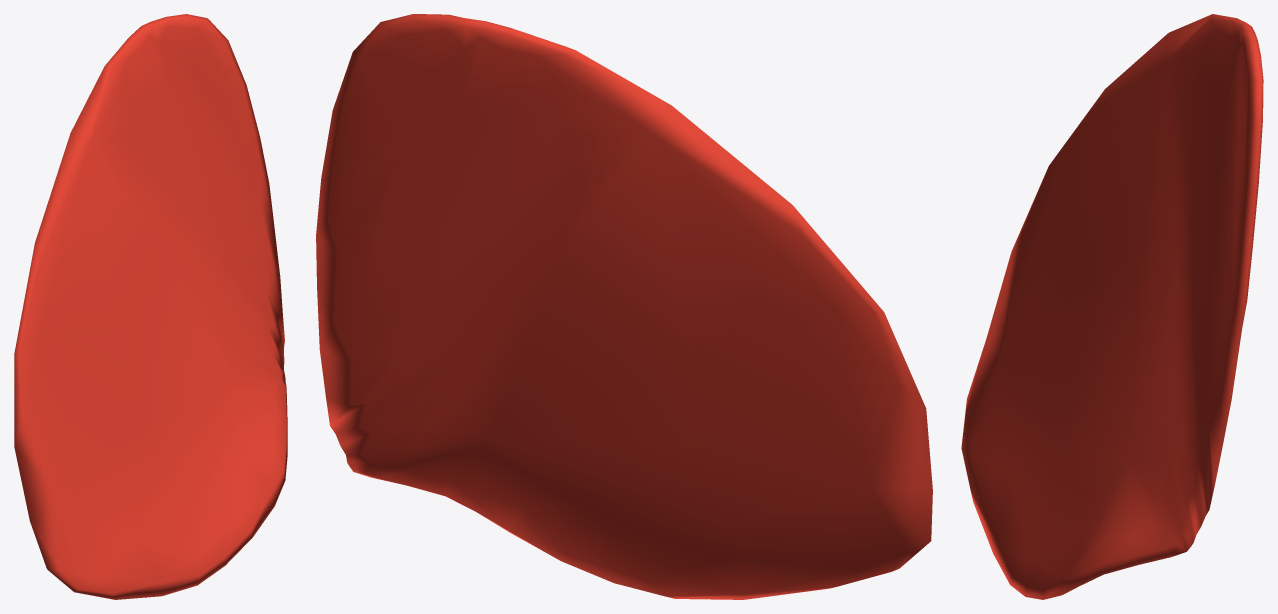
The model's file is Anconeus_humeral_insertion_right.glb.
3 views of the same model, side by side, from view 1: azimuth 30°, elevation 25°; view 2: azimuth 150°, elevation 25°; view 3: azimuth 270°, elevation 25° (orthographic). The views are drawn at different scales.
Parts seen in each view (by area): view 1: Anconeus_muscle-Humeral_insertion.r_Generated_Mesh_From_X3D.; view 2: Anconeus_muscle-Humeral_insertion.r_Generated_Mesh_From_X3D.; view 3: Anconeus_muscle-Humeral_insertion.r_Generated_Mesh_From_X3D..
Part boxes in pixels (x1=…): Anconeus_muscle-Humeral_insertion.r_Generated_Mesh_From_X3D.: x1=14, y1=14, x2=287, y2=599; Anconeus_muscle-Humeral_insertion.r_Generated_Mesh_From_X3D.: x1=316, y1=14, x2=932, y2=599; Anconeus_muscle-Humeral_insertion.r_Generated_Mesh_From_X3D.: x1=961, y1=14, x2=1263, y2=599.
Bounding box in the file's own units: 0.0148 × 0.0193 × 0.00897.
